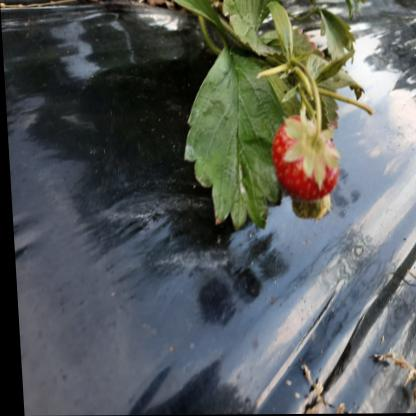ripe: (274, 125, 339, 202)
